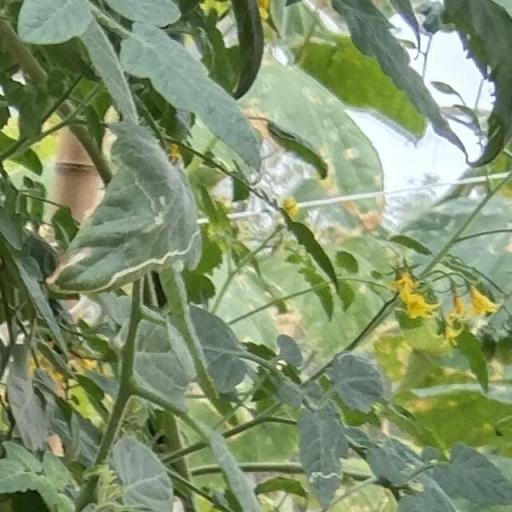Healthy: (117, 18, 266, 174), (112, 435, 175, 512), (15, 0, 93, 47)
Leaf_Miner: (41, 118, 208, 301), (294, 402, 346, 512)
